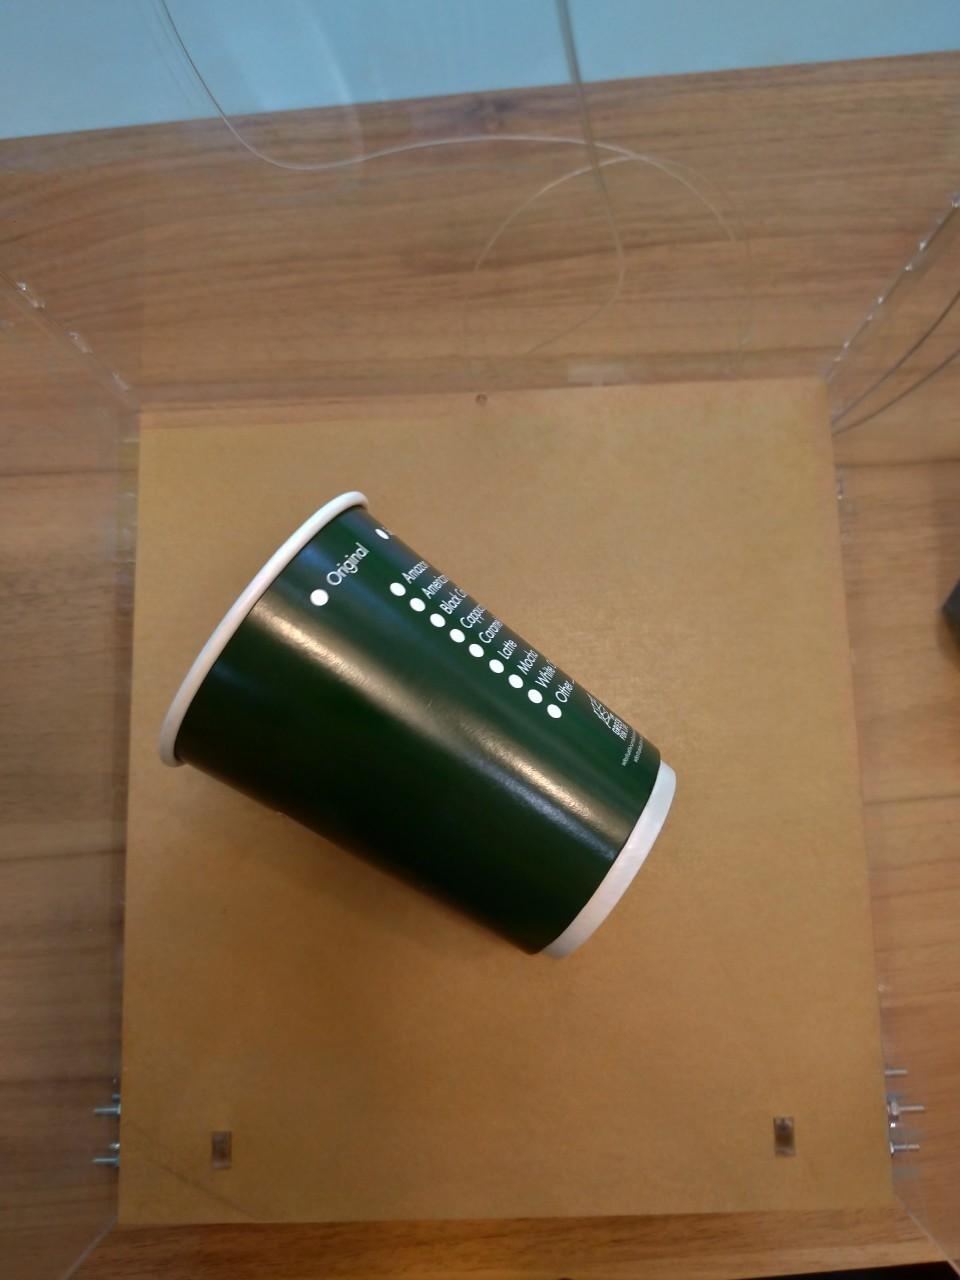PaperCup: (161, 490, 677, 959)
